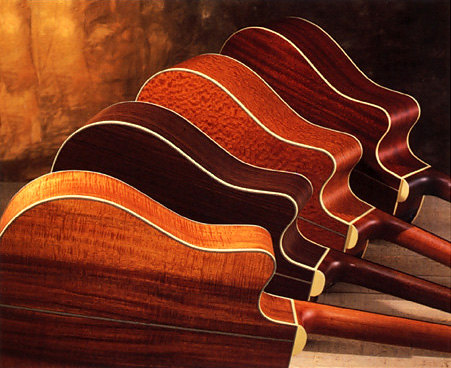guitar: (1, 173, 450, 365), (50, 100, 450, 313), (133, 51, 451, 268), (221, 14, 451, 226)
